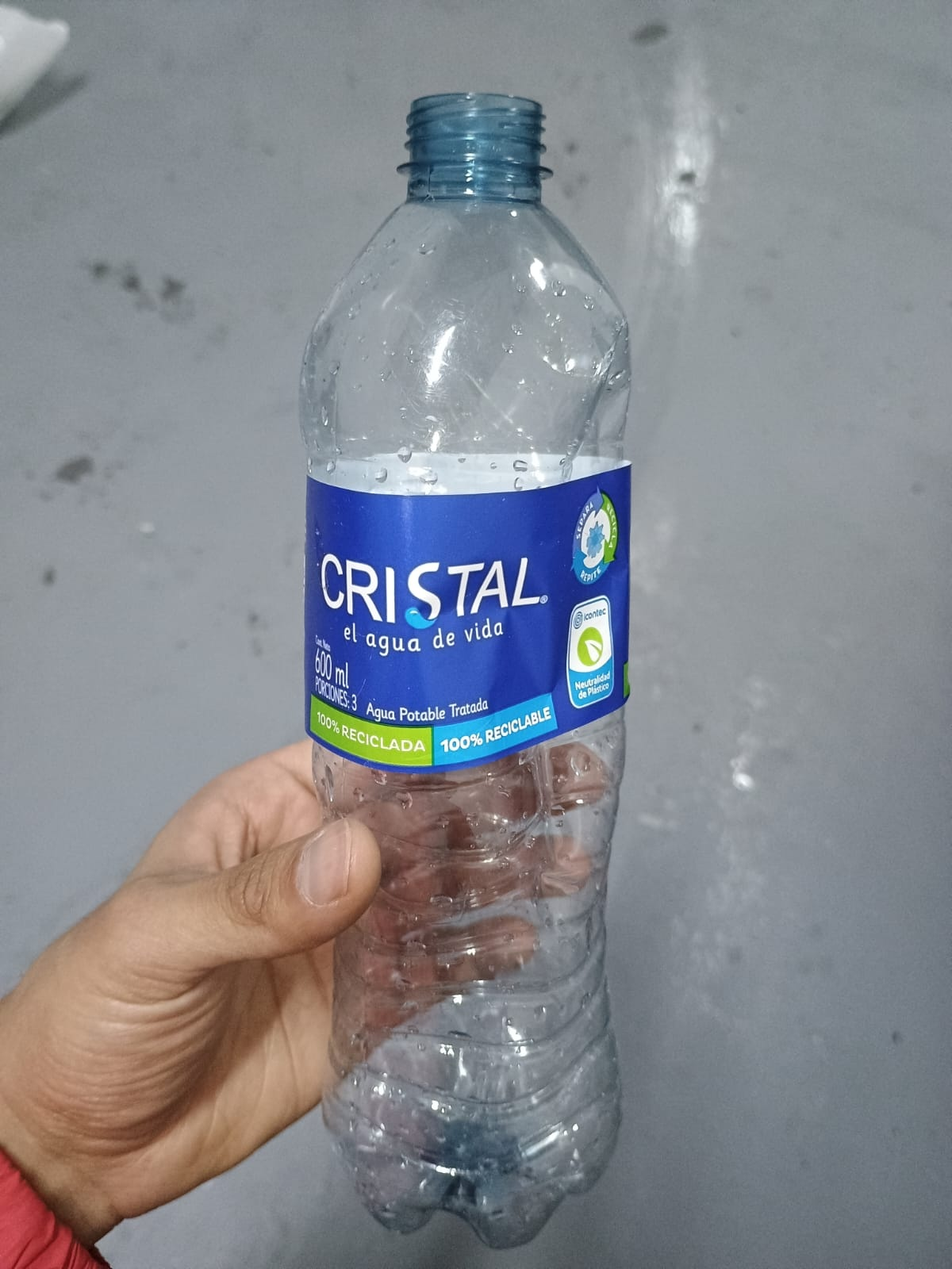Plastico: (299, 88, 632, 1246)
